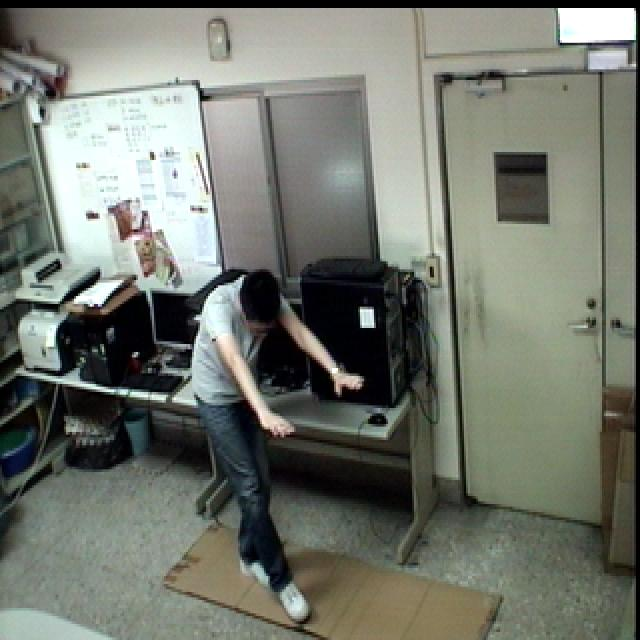bend: (185, 251, 365, 628)
